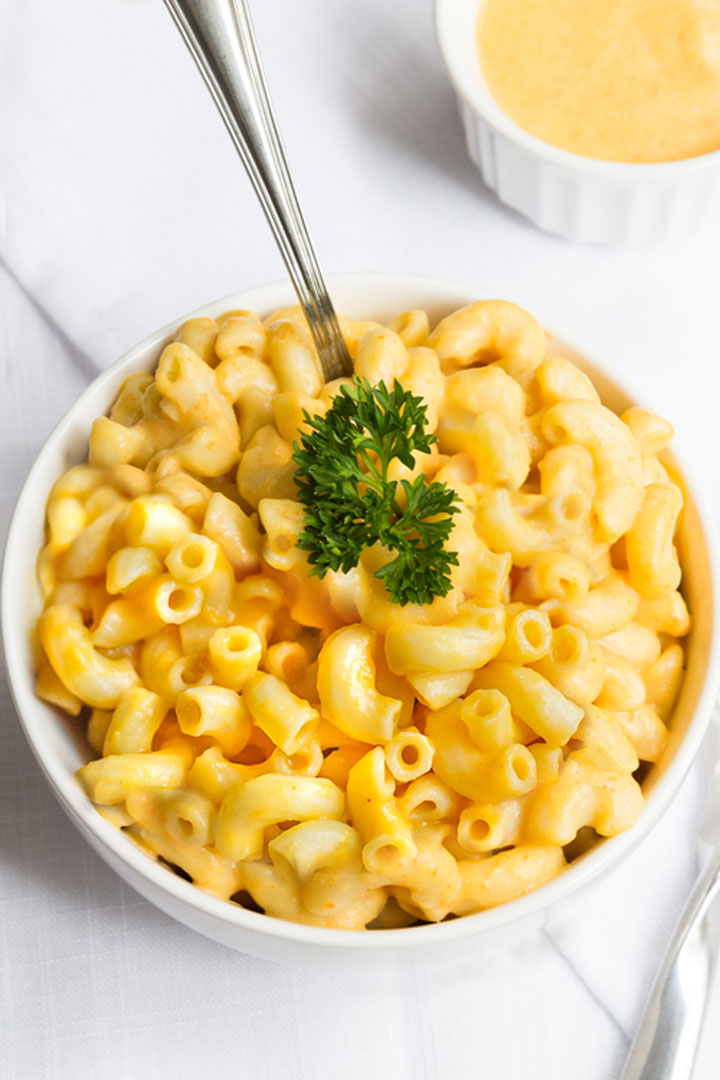macncheese: (129, 374, 629, 835)
